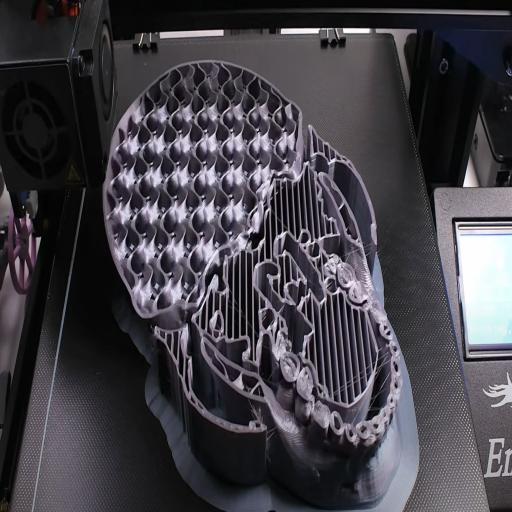stringing: (321, 343, 397, 426), (247, 398, 263, 426), (268, 426, 276, 463)
